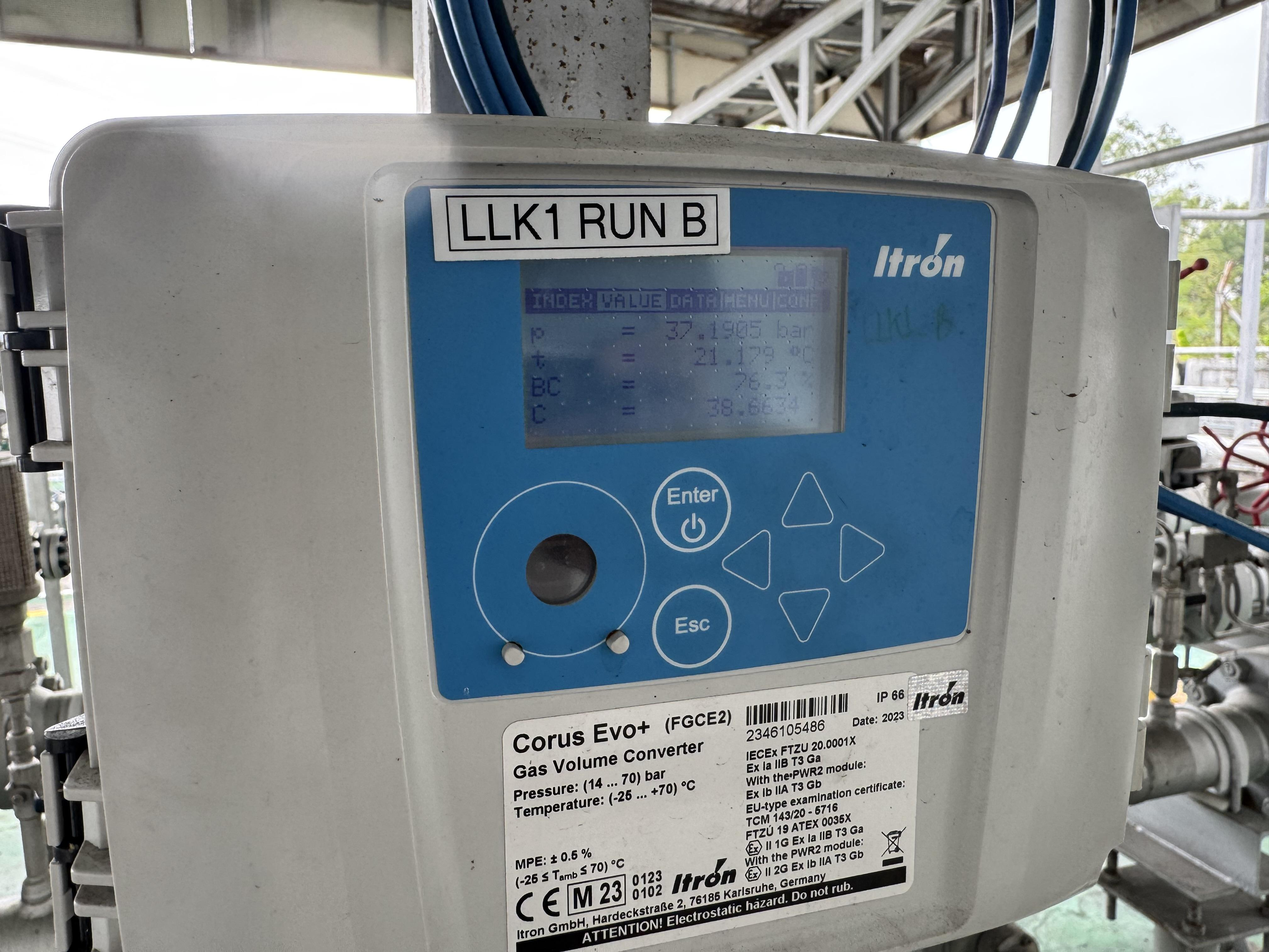digital_screen: (518, 247, 849, 449)
